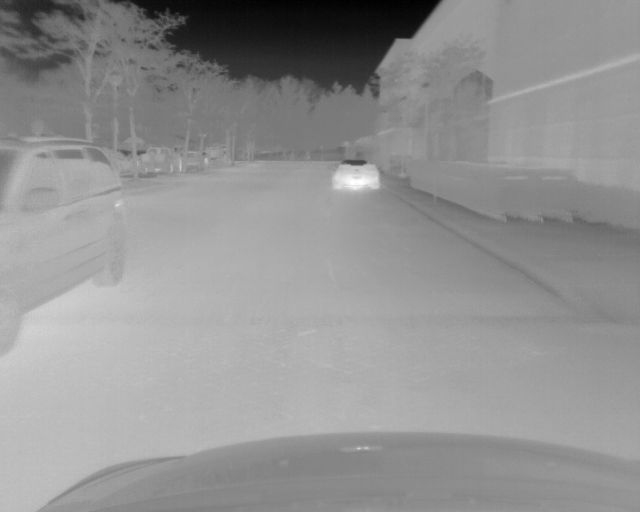car: (1, 136, 129, 355), (329, 158, 380, 191), (140, 144, 182, 171), (181, 150, 212, 173)
